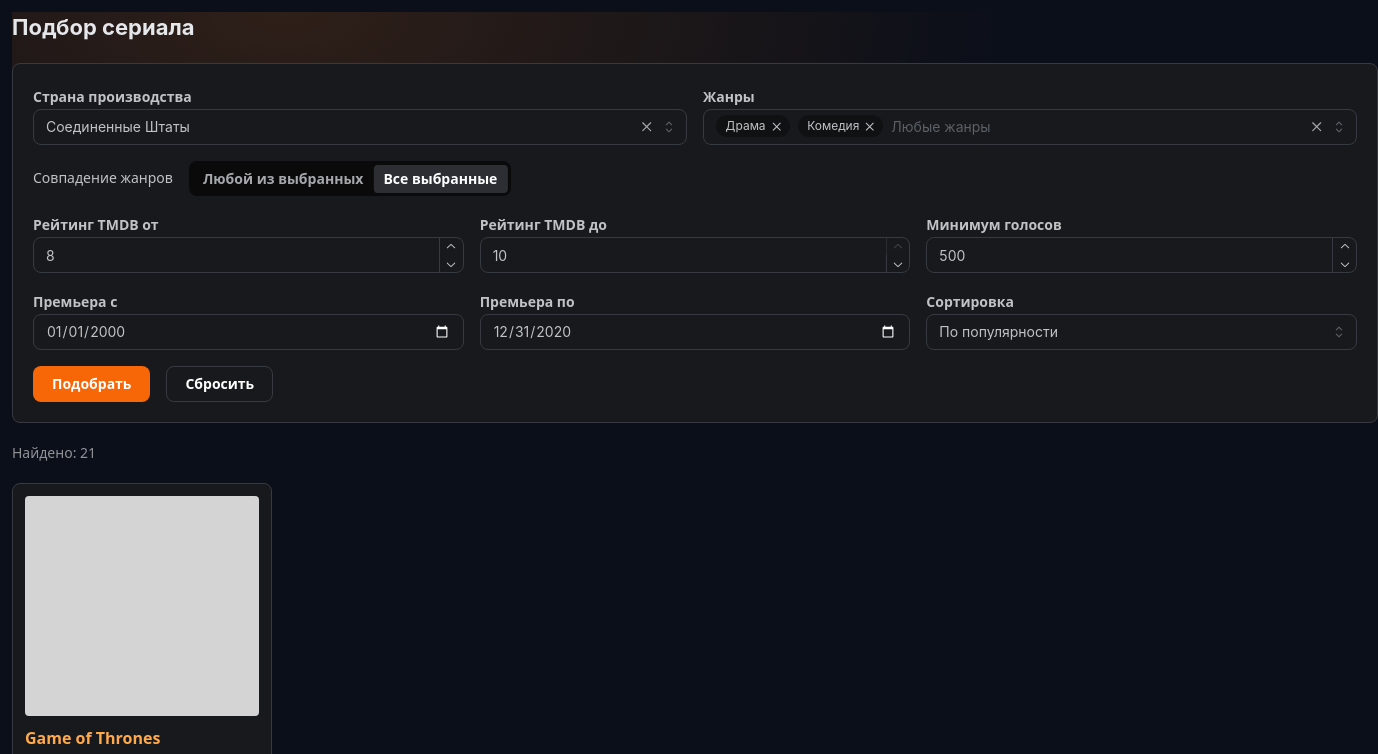
Test: DiscoverPage › restores filters and page from the URL and resets unsaved edits
The image size is (1378, 754).
Expected: the link "Game of Thrones" is shown, [25,727,160,749]
Expected: the date field labelled "Премьера с" holds "2000-01-01", [33,314,464,350]
Click the button "Сбросить" at coordinates (220, 384), box [166,366,273,402]
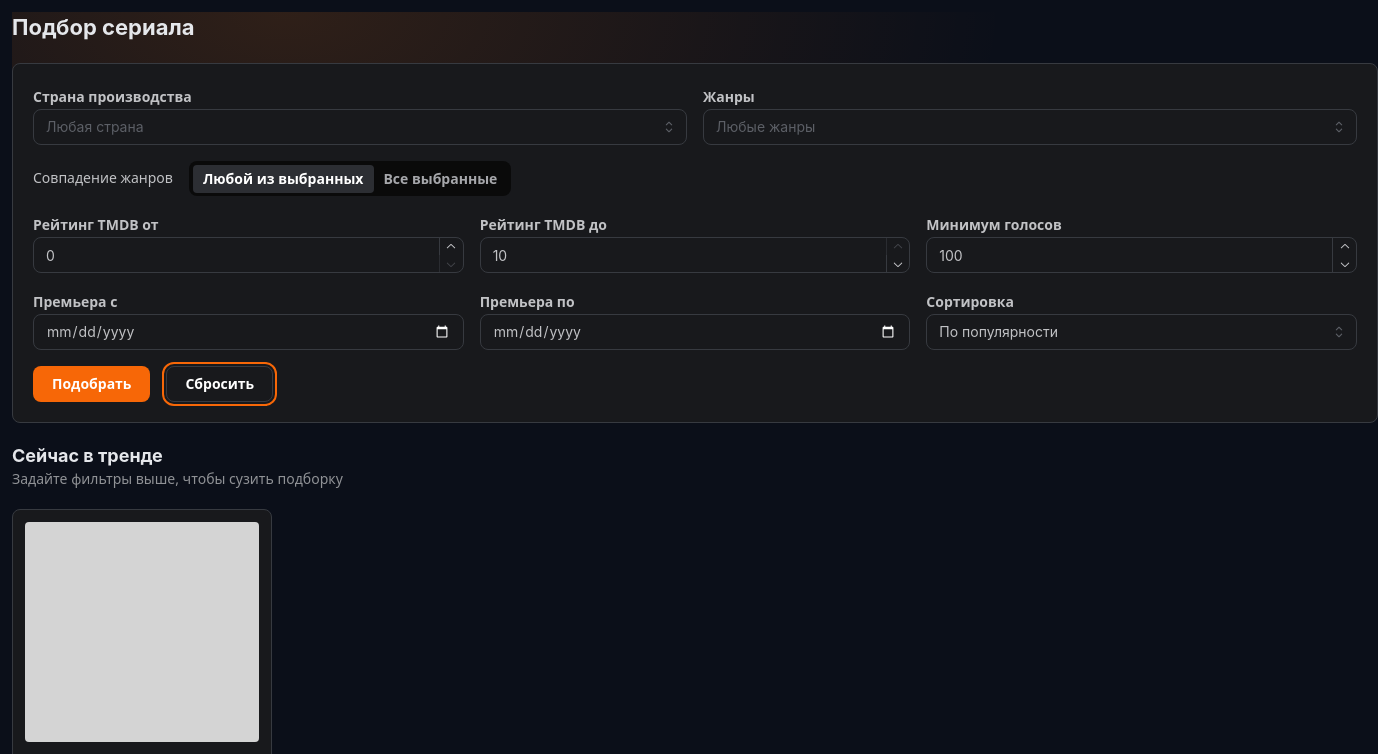
Result: the heading "Сейчас в тренде" is shown at [12,445,163,466]
Result: the field labelled "Рейтинг TMDB от" holds "0"
Replace the text in the field labelled "Рейтинг TMDB от" with "9" at coordinates (248, 255), box [33,237,464,273]
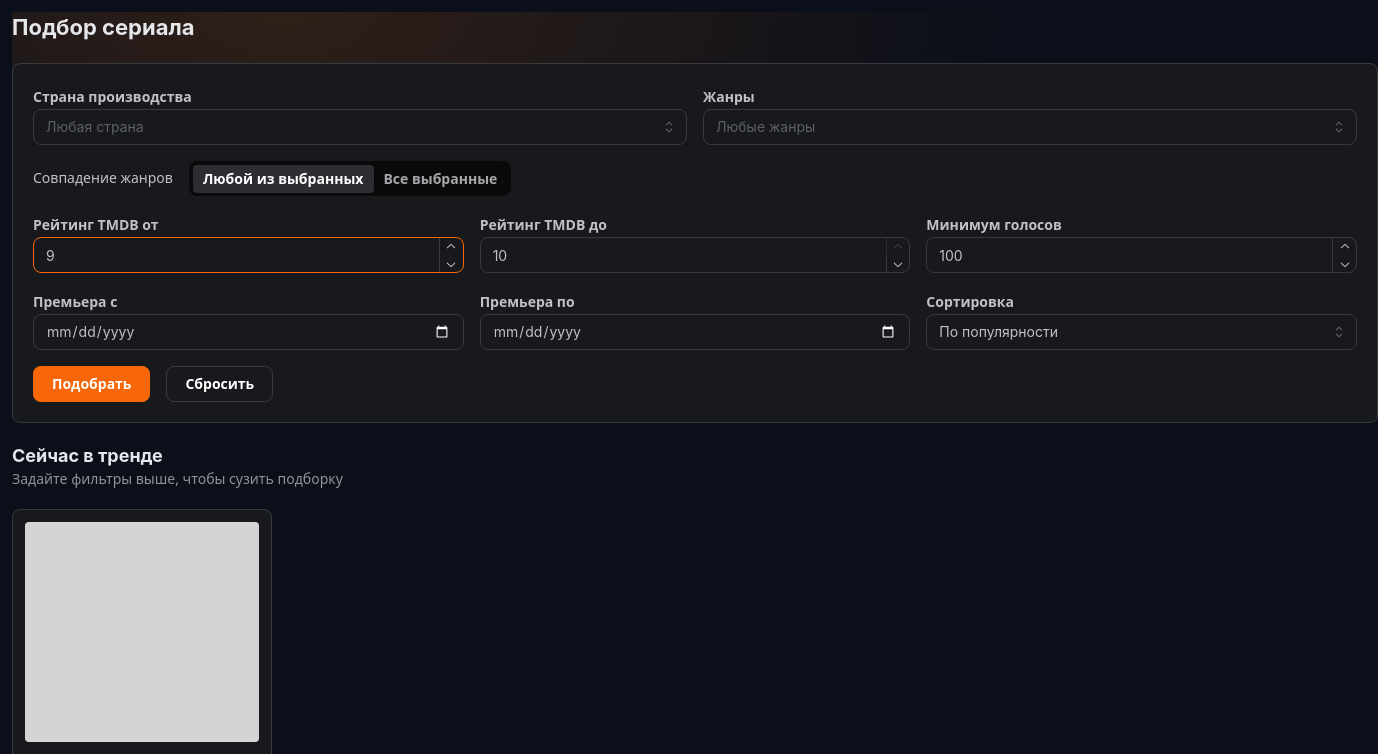
Click the button "Сбросить" at coordinates (220, 384), box [166,366,273,402]
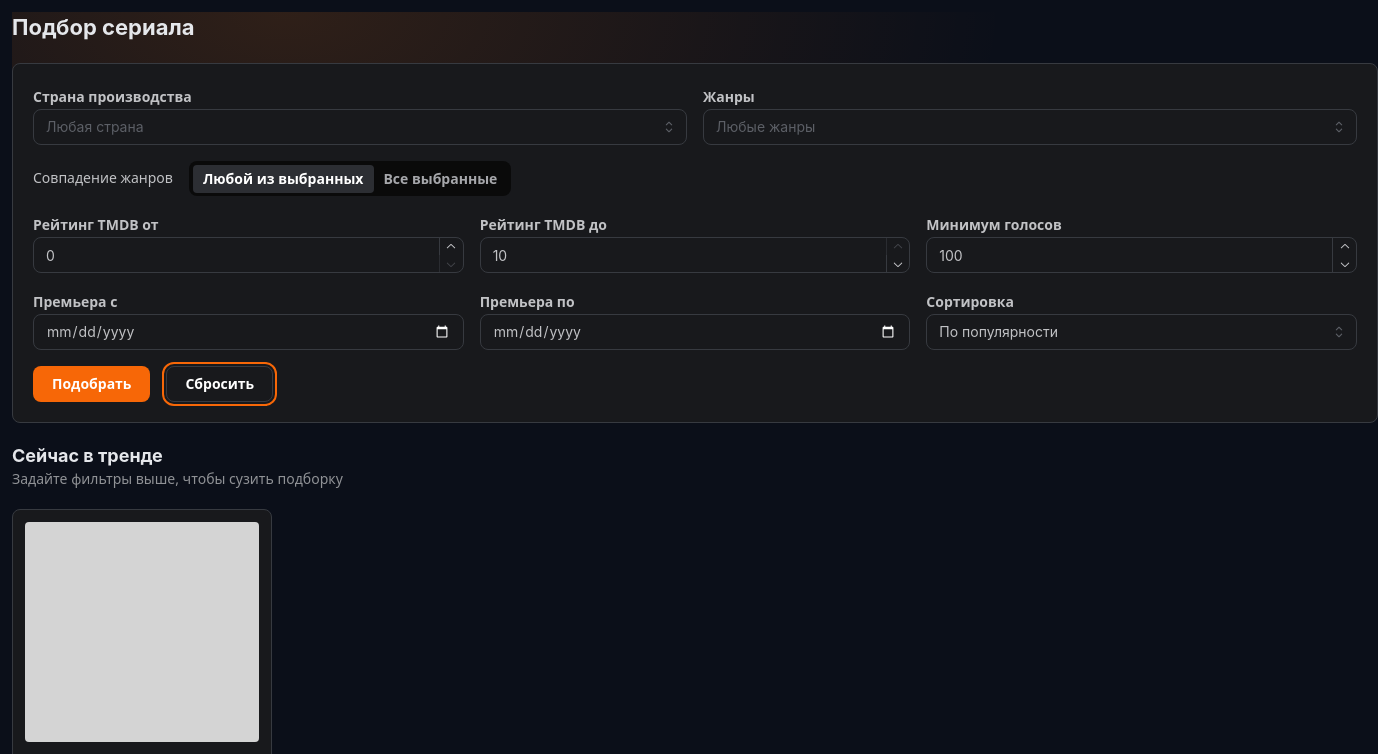
Result: the field labelled "Рейтинг TMDB от" holds "0" at [33,237,464,273]
